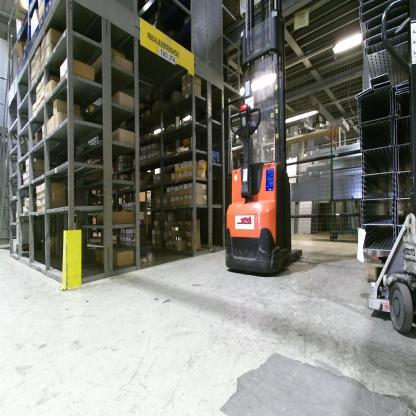pallet_truck: (223, 0, 304, 277), (358, 3, 414, 346)
